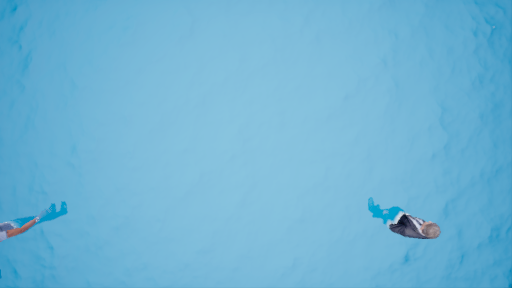person: (364, 194, 444, 243)
